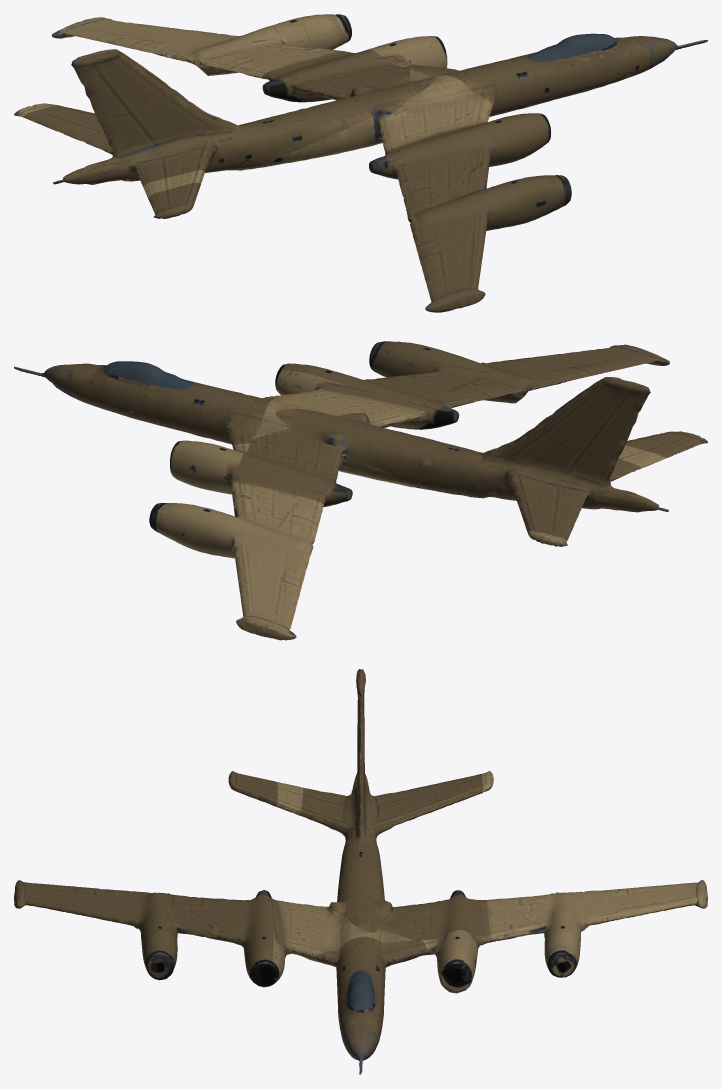
File: fh_battle_bomber_1.glb
3 views of the same model, one above another, from view 1: azimuth 30°, elevation 25°; view 2: azimuth 150°, elevation 25°; view 3: azimuth 270°, elevation 25° (orthographic). The views are drawn at different scales.
Visible parts, largest first — view 1: fh_battle_bomber_1; view 2: fh_battle_bomber_1; view 3: fh_battle_bomber_1.
Part boxes in pixels (x1,y1,x2,y2): fh_battle_bomber_1: [14, 14, 707, 312]; fh_battle_bomber_1: [14, 341, 707, 640]; fh_battle_bomber_1: [14, 669, 707, 1074].
Size of the model in its own units: 0.9975 by 0.2414 by 1.
2 materials, 1 textured.
